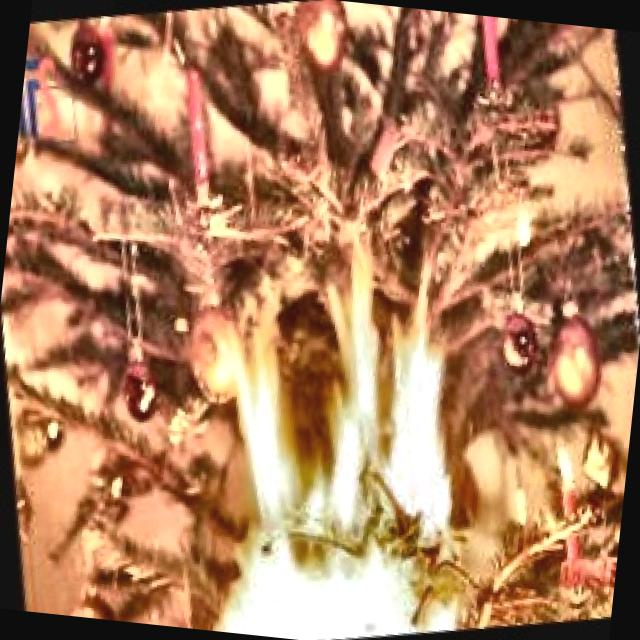fire: (149, 236, 548, 640)
